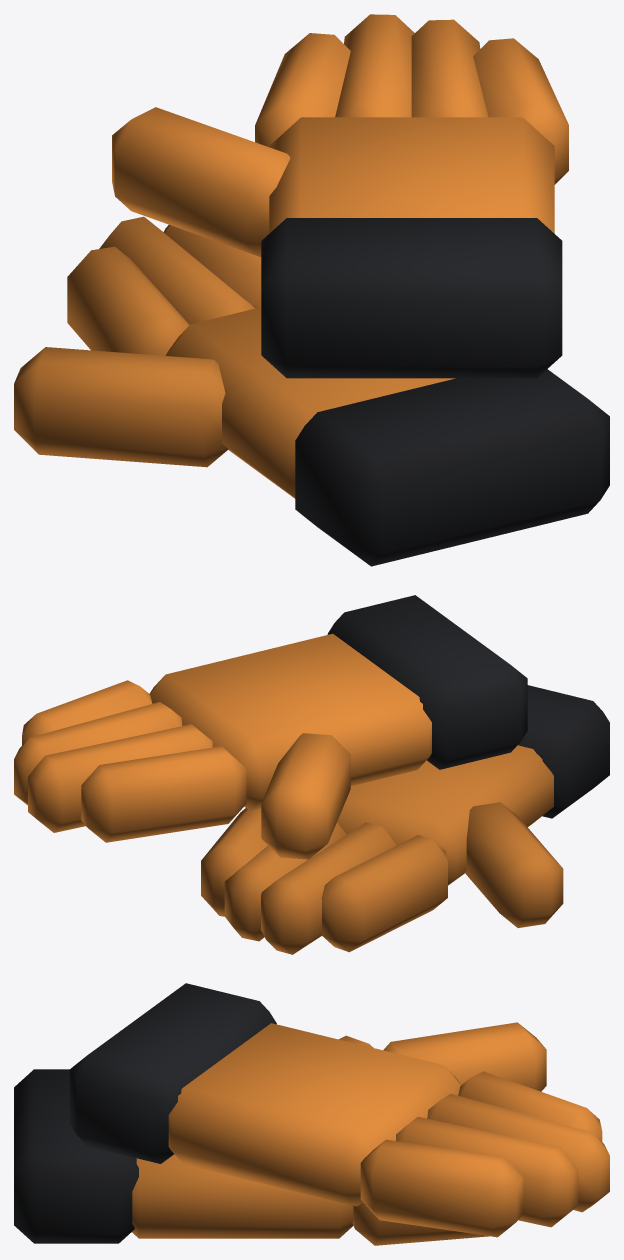
Rendered from SM_WorkGloves_01.glb.
3 views of the same model, one above another, from view 1: azimuth 30°, elevation 25°; view 2: azimuth 150°, elevation 25°; view 3: azimuth 270°, elevation 25° (orthographic). The views are drawn at different scales.
Parts seen in each view (by area): view 1: SM_WorkGloves_01; view 2: SM_WorkGloves_01; view 3: SM_WorkGloves_01.
Part boxes in pixels (x1,y1,x2,y2): SM_WorkGloves_01: [14, 14, 609, 566]; SM_WorkGloves_01: [14, 595, 609, 954]; SM_WorkGloves_01: [14, 983, 609, 1245].
Size of the model in its own units: 0.2217 by 0.08 by 0.2382.
Materials: 1 (1 with a texture image).
